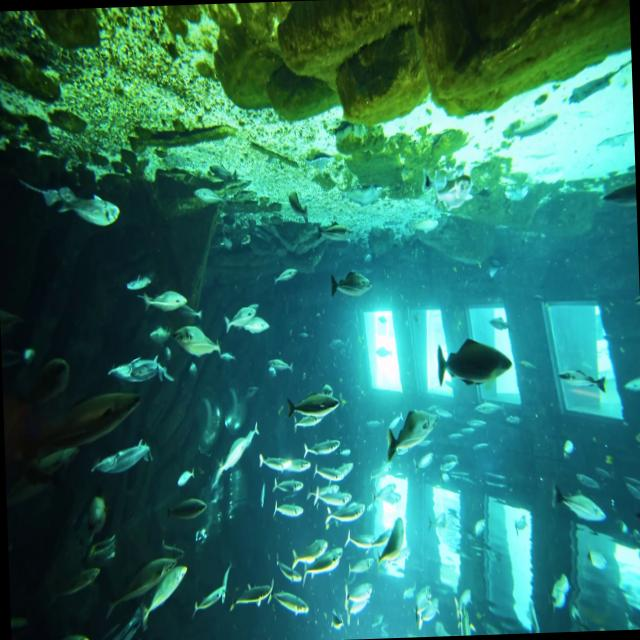fish: (9, 384, 152, 474), (436, 328, 521, 394), (376, 401, 444, 467), (132, 558, 196, 627), (108, 555, 176, 616), (540, 479, 612, 534), (550, 352, 614, 400), (212, 416, 263, 474), (294, 542, 348, 594), (281, 383, 347, 425), (324, 264, 379, 310), (104, 351, 172, 388), (374, 504, 410, 571), (53, 196, 120, 231), (280, 532, 334, 572), (172, 321, 226, 358), (262, 590, 314, 628), (166, 496, 217, 534), (230, 582, 280, 620), (544, 564, 578, 616), (188, 584, 232, 624), (224, 294, 262, 340), (139, 286, 190, 318), (325, 492, 365, 532), (252, 445, 294, 482), (268, 499, 311, 527), (583, 542, 613, 573), (315, 458, 345, 488), (120, 264, 152, 291), (147, 321, 180, 347)
